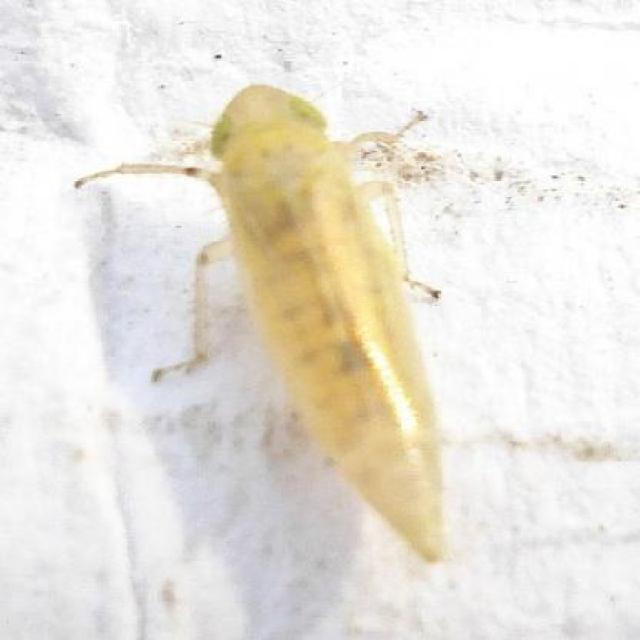green-leafhopper: (69, 83, 445, 571)
